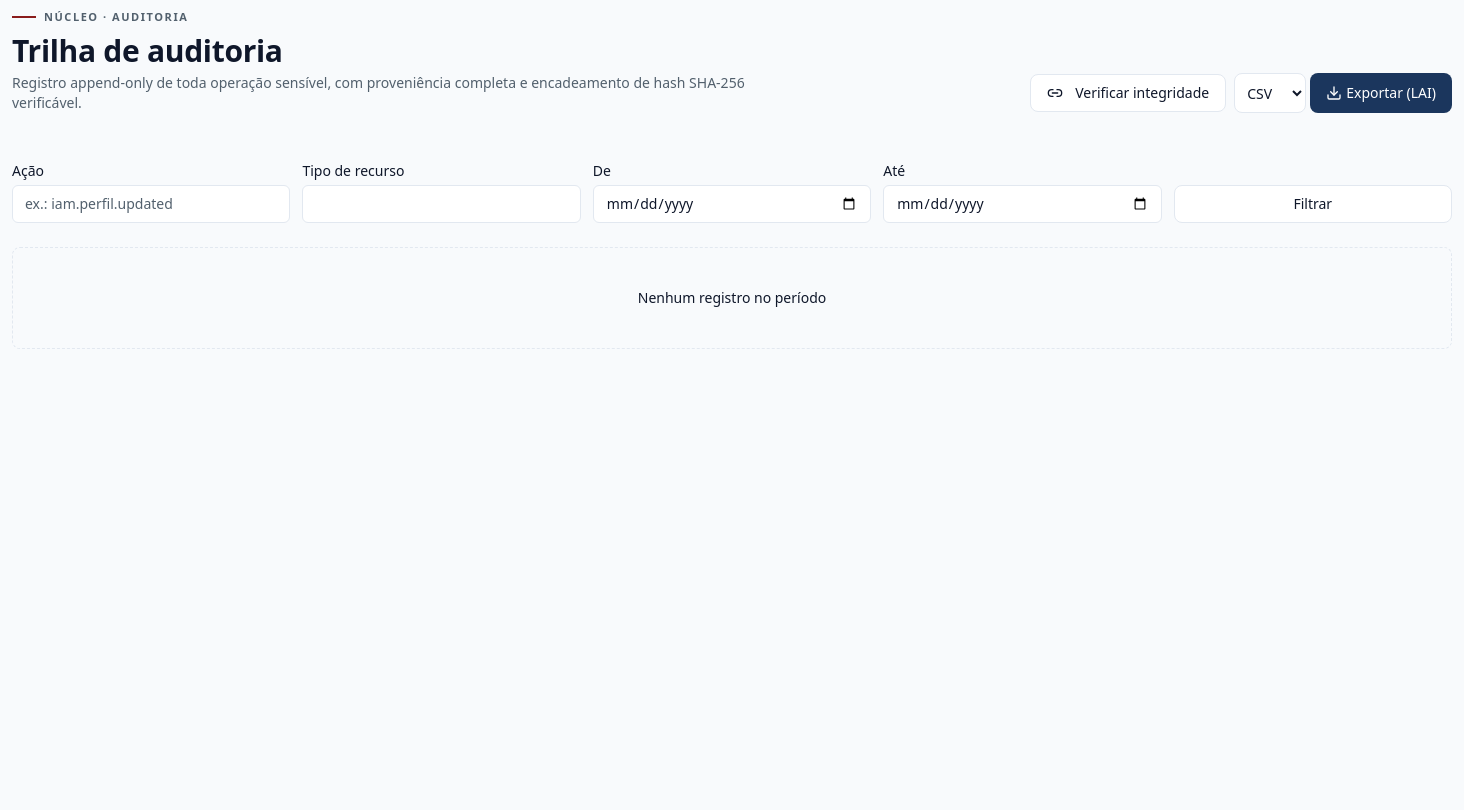
it: Auditoria › sem audit:verify nem audit:read não há verificação nem exportação; verificação com erro
The image size is (1464, 810).
expect the text "Nenhum registro no período" is shown: met, box [638, 288, 826, 308]
Click the button "Verificar integridade" at {"x": 1128, "y": 93}, box [1030, 74, 1226, 112]
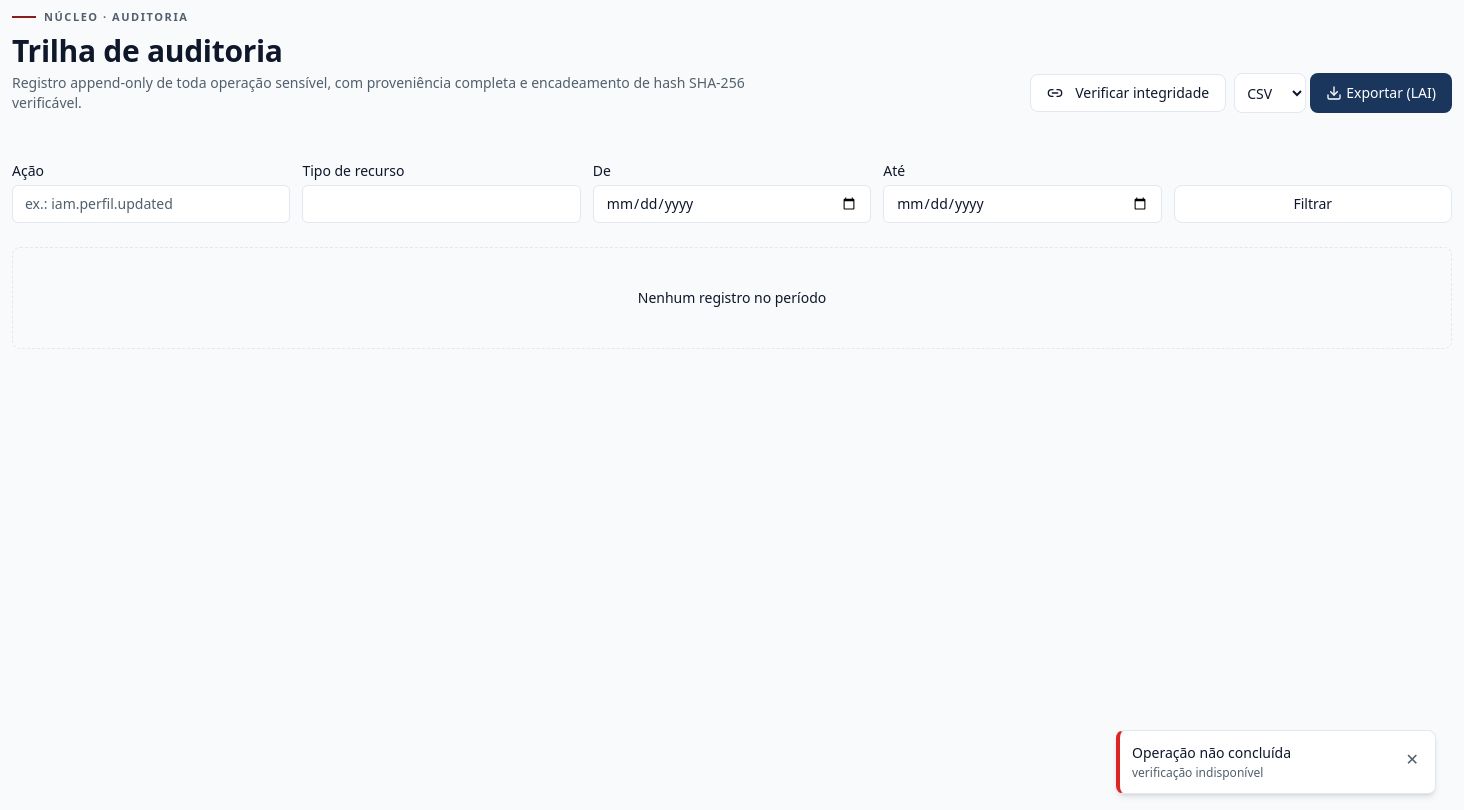
expect the text "verificação indisponível" is shown: met, box [1132, 764, 1263, 781]
